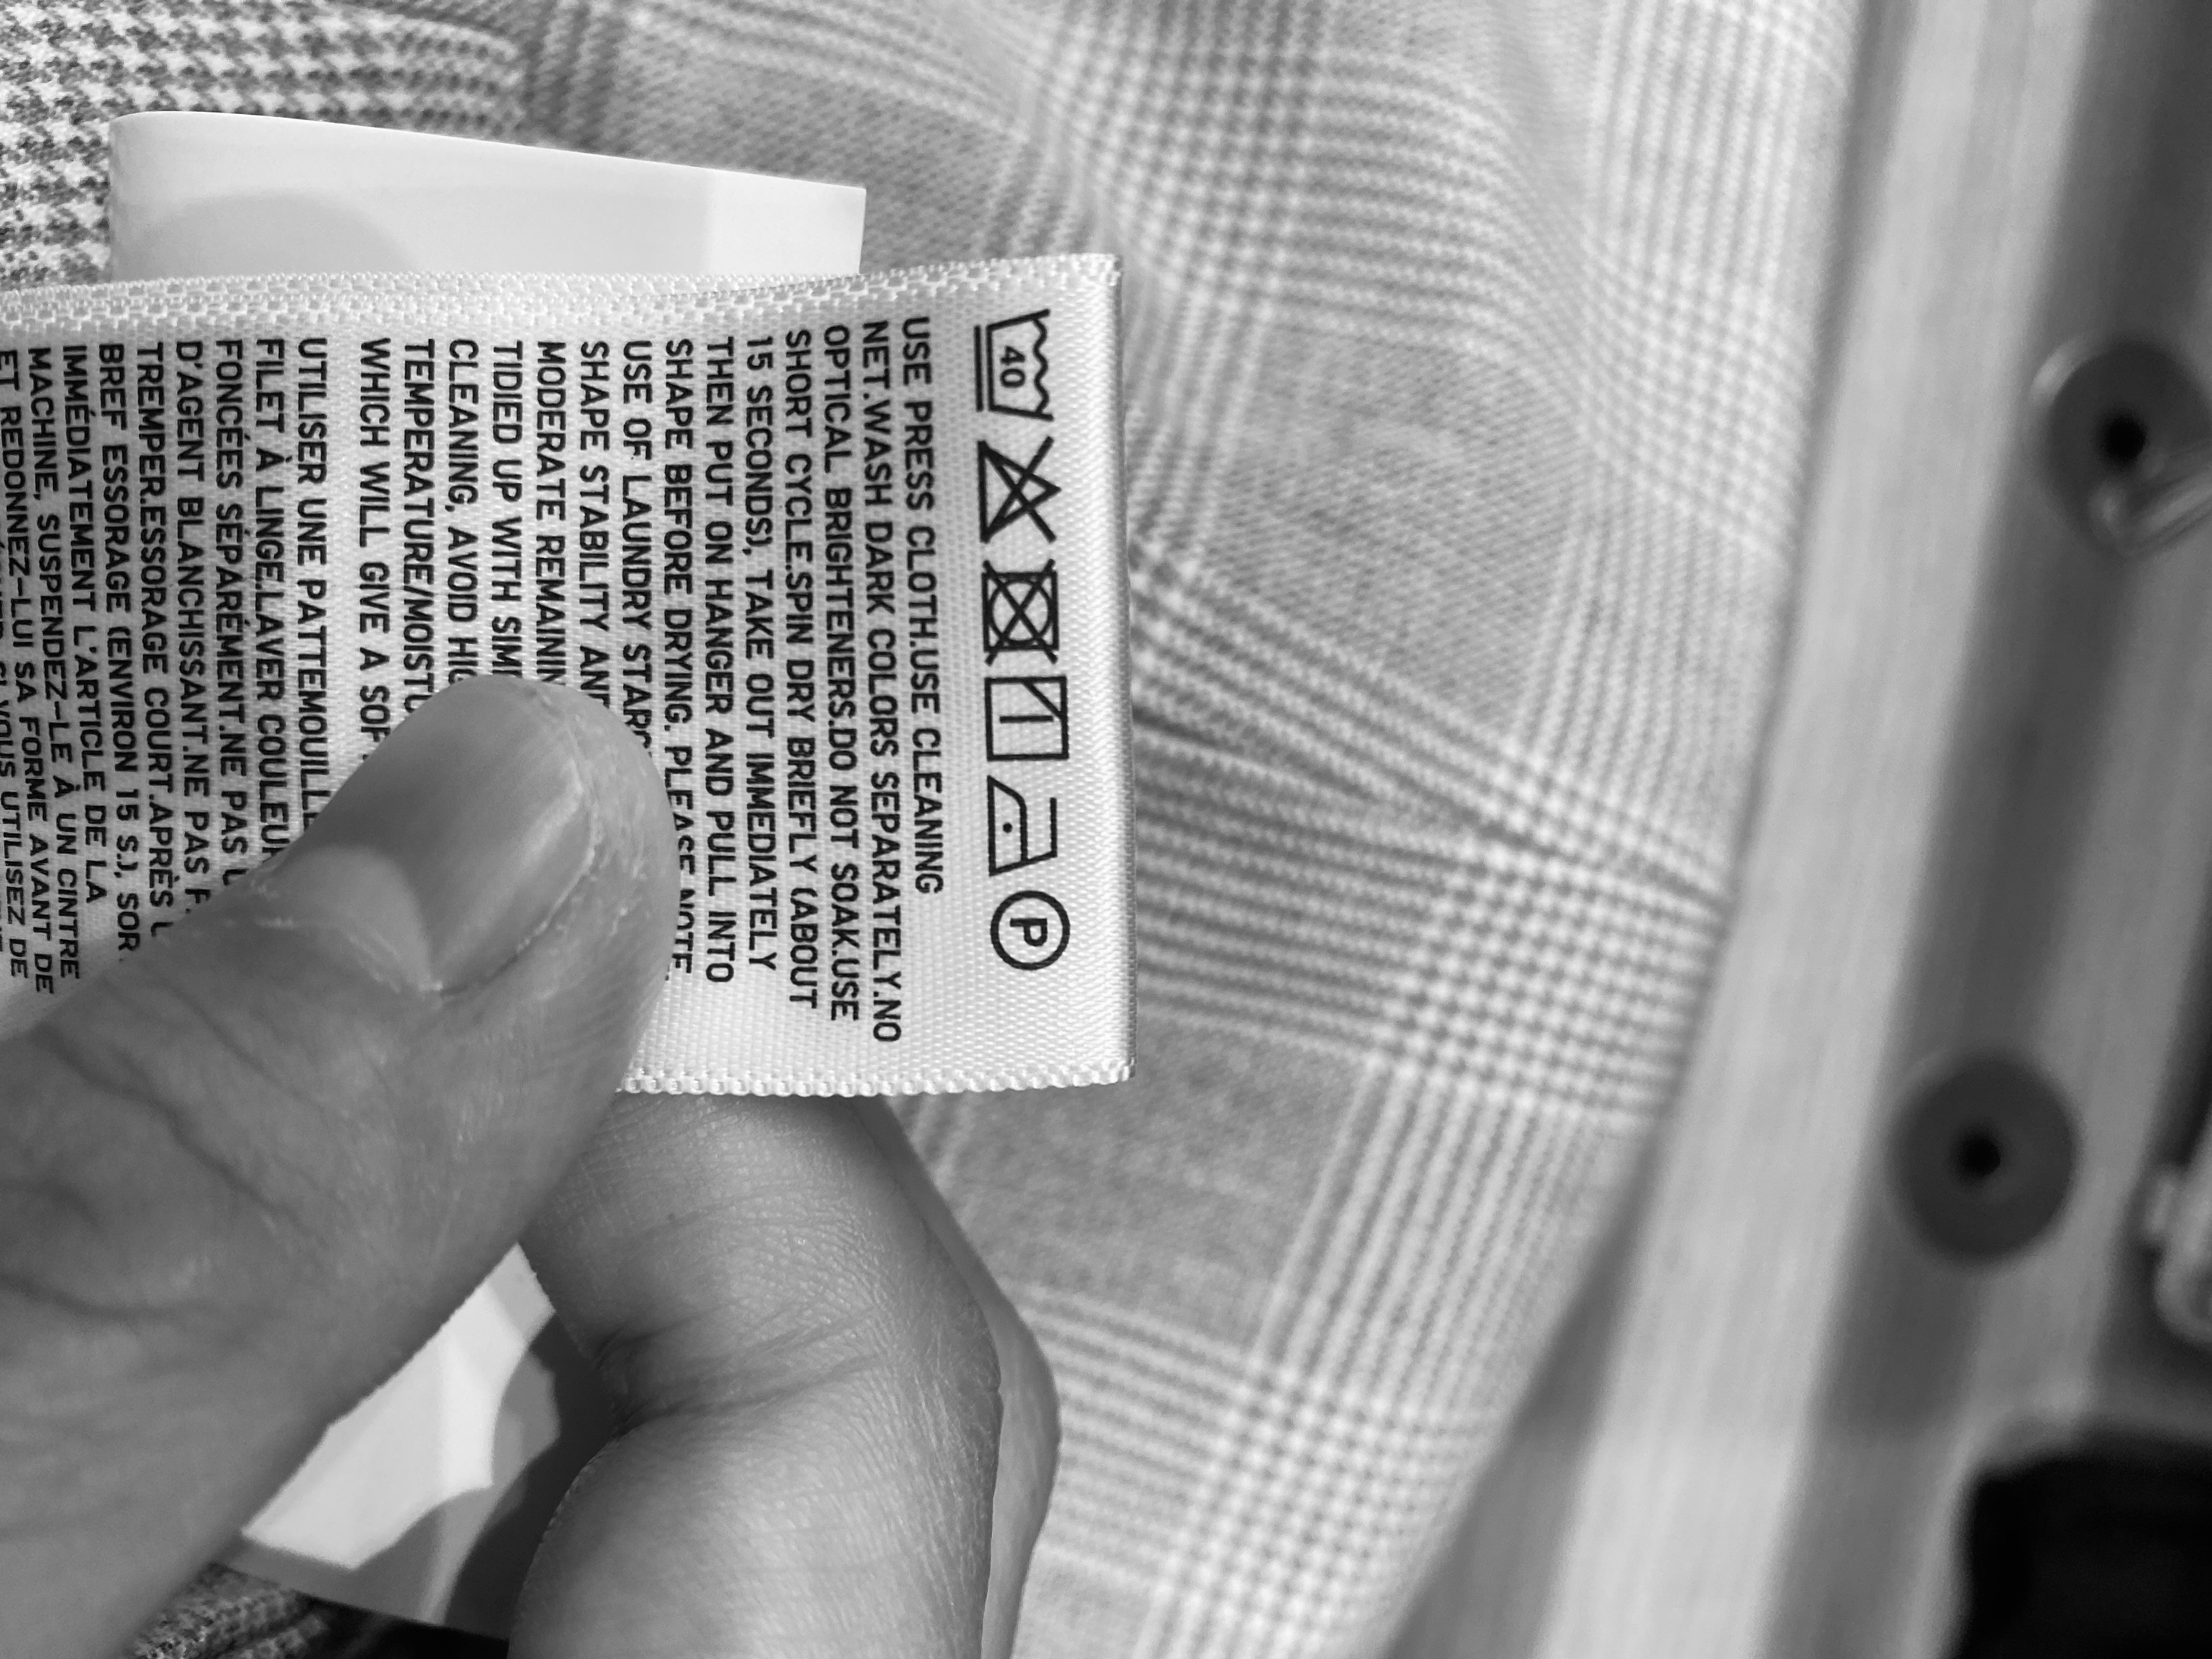icon: (968, 427, 1071, 549), (968, 769, 1076, 880), (970, 303, 1062, 423), (975, 556, 1071, 671), (981, 666, 1078, 765), (981, 880, 1080, 974)
